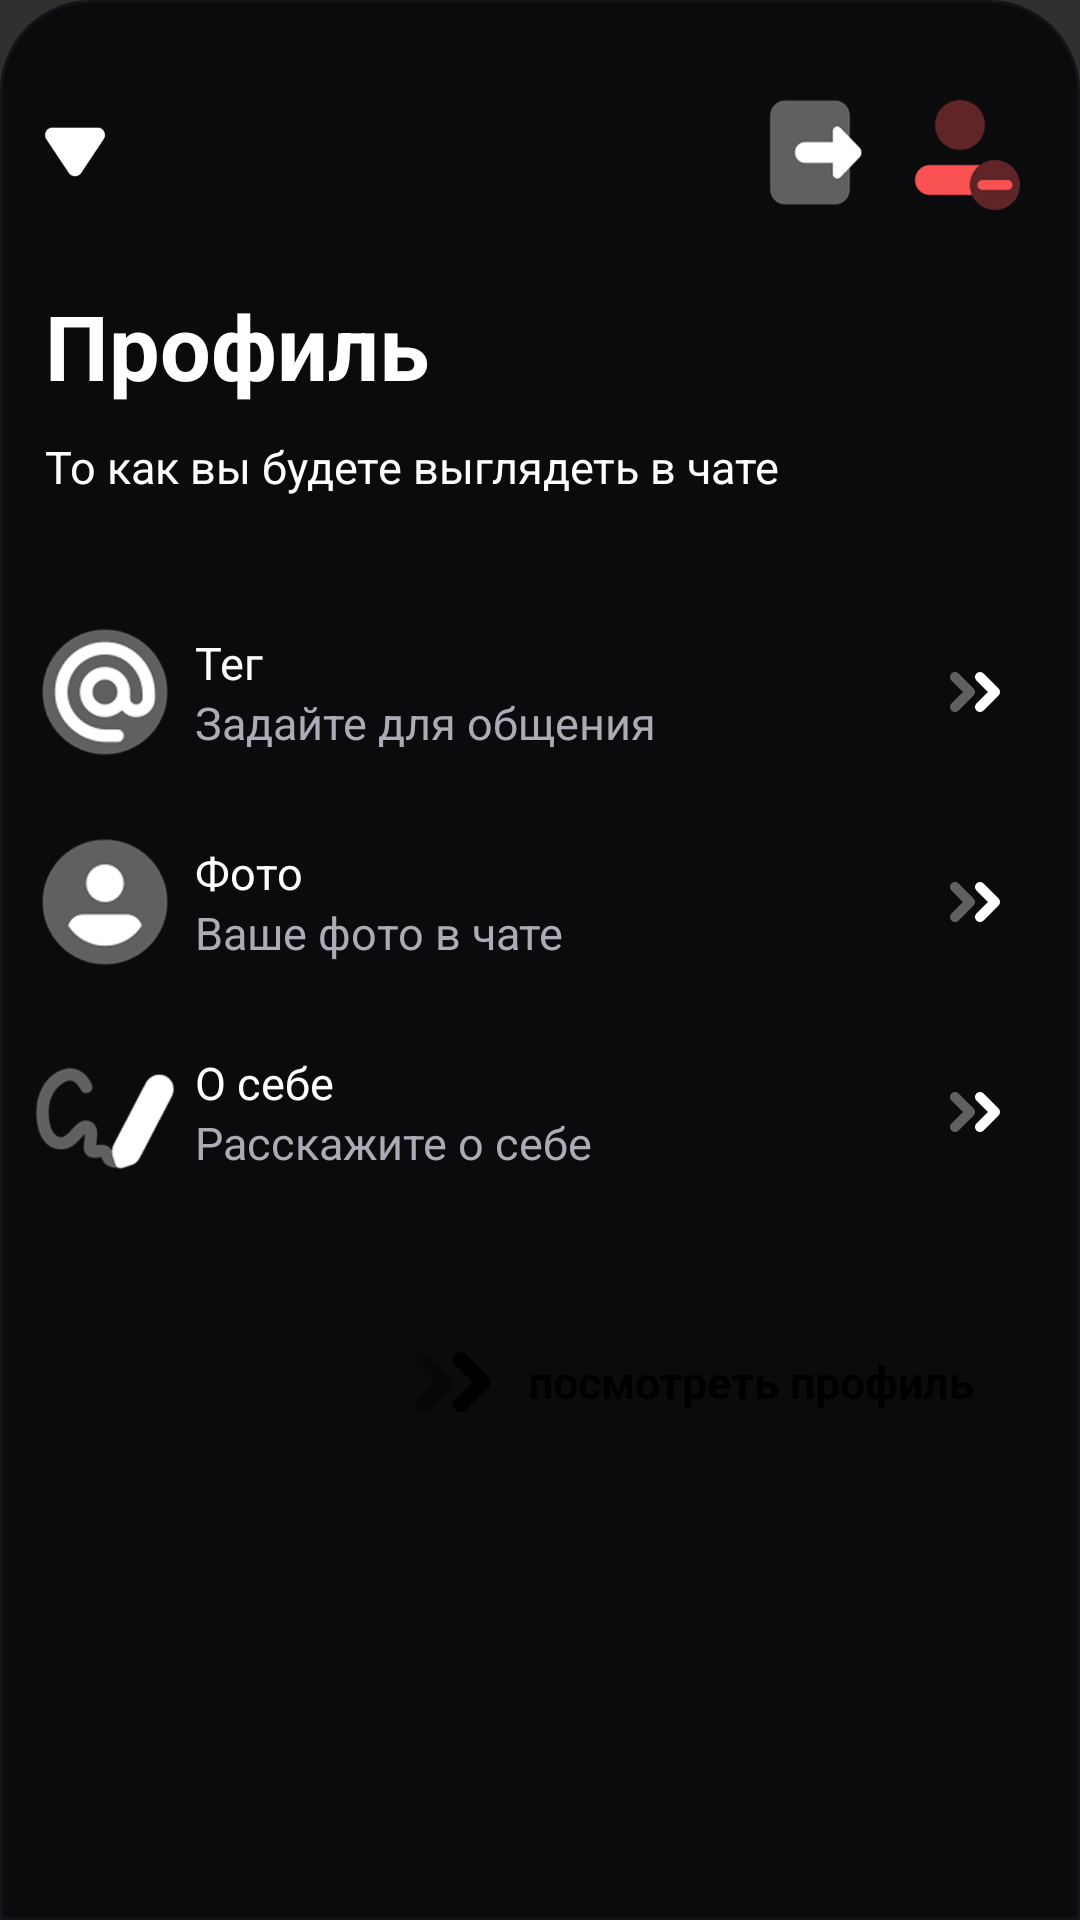

Screen size 1080×1920. Icon name, then its center in pixels as [x,y]:
arrowdown: [75,152]
bio: [105,1118]
delete: [967,155]
profile: [105,902]
